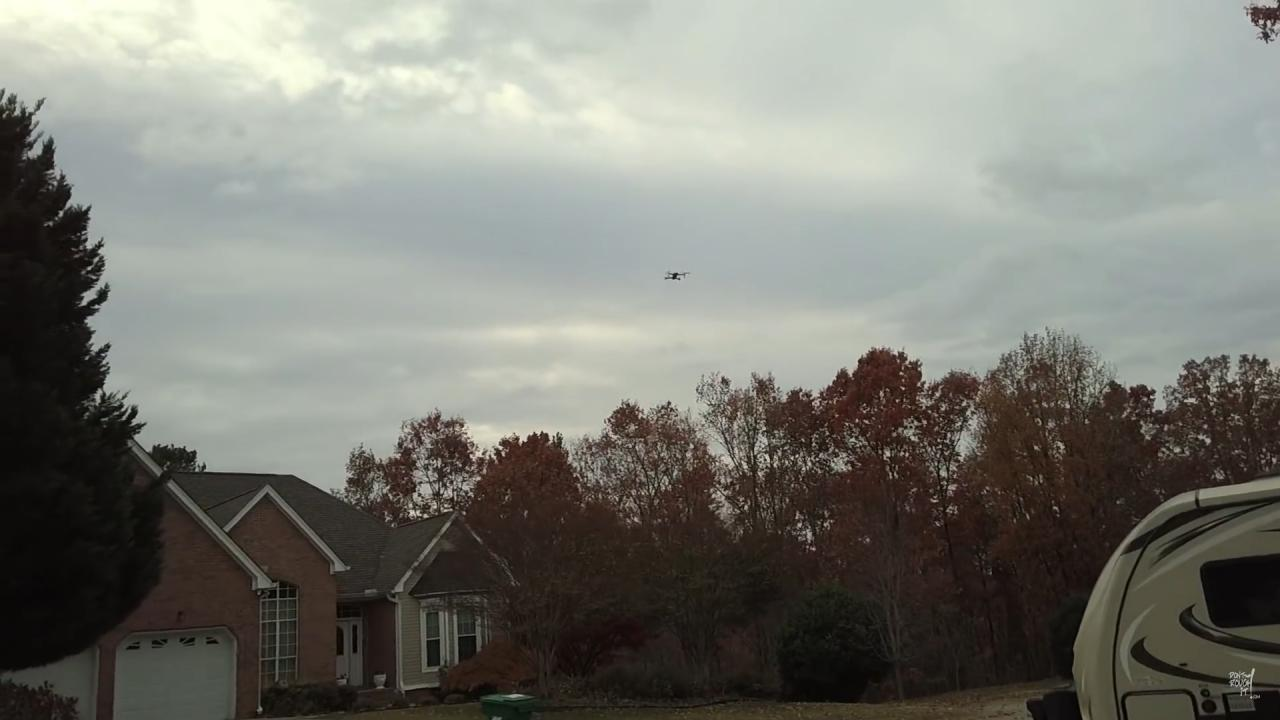Drone: (663, 268, 692, 282)
